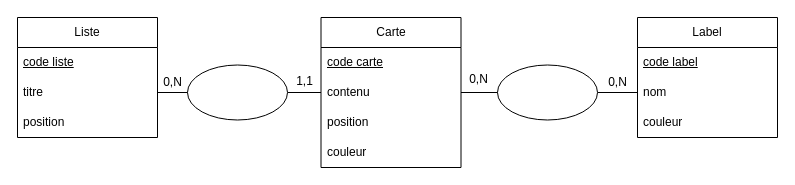
The diagram is 795 pixels wide and 185 high, and some of its shapes have lost their labels. The shapes that lost their labels are listed below. From the top down, each one's box as (x1, y1, x2, y2) in pixels, then its label:
(186, 64, 288, 120): POSSÈDE
(496, 64, 598, 120): CARACTERISE
